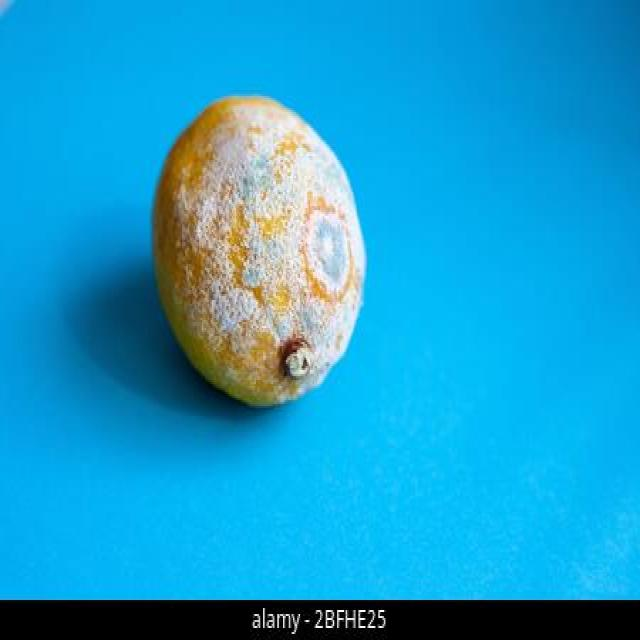Rotten: (150, 91, 367, 411)
